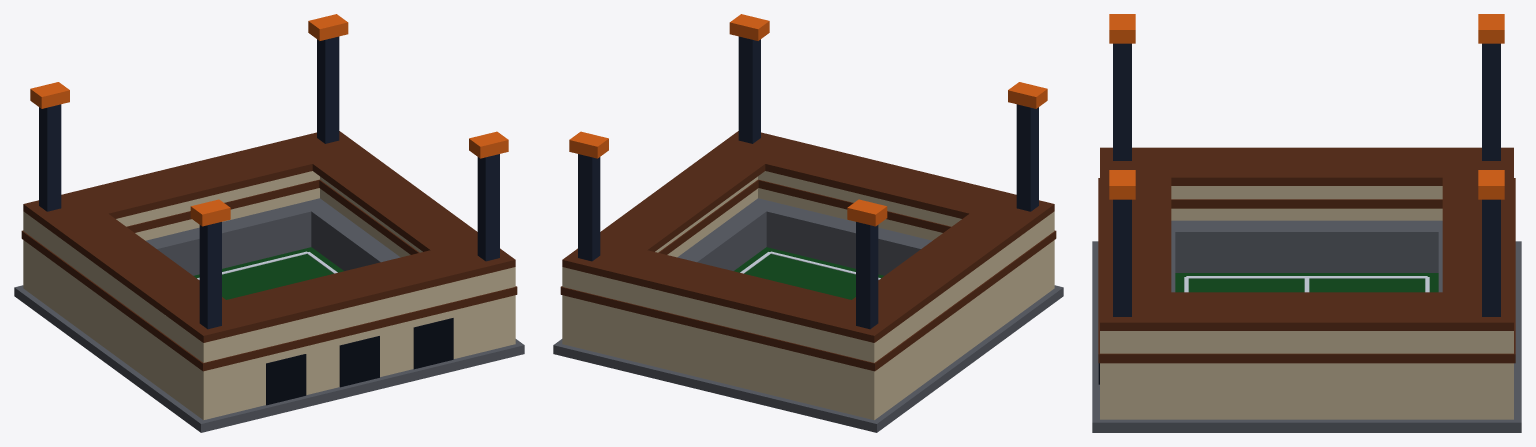
The model's file is stadium.obj.
3 renders of one model, left to right at view 1: azimuth 30°, elevation 25°; view 2: azimuth 150°, elevation 25°; view 3: azimuth 270°, elevation 25°, orthographic. The views are drawn at different scales.
Visible parts, largest first — view 1: canopies, stands-front, stands-west, masts, concourse, facade-band, tiers-back, gates, stands-back, floodlights, pitch, tiers-east (+1 smaller); view 2: canopies, stands-back, stands-west, masts, concourse, facade-band, tiers-front, stands-front, floodlights, pitch, tiers-east, stands-east; view 3: canopies, stands-east, tiers-west, masts, concourse, facade-band, stands-west, pitch, stands-back, stands-front, floodlights, pitch-markings.
Boxes of the visible parts, x1,y1,x2,y2 form: canopies: (23, 131, 515, 342); stands-front: (182, 267, 515, 420); stands-west: (44, 227, 182, 404); masts: (39, 36, 499, 329); concourse: (14, 285, 524, 432); facade-band: (21, 179, 517, 371); tiers-back: (145, 198, 330, 275); gates: (266, 318, 453, 405); stands-back: (23, 171, 319, 303); floodlights: (30, 14, 508, 226); pitch: (194, 247, 343, 299); tiers-east: (311, 206, 400, 270); canopies: (562, 131, 1054, 342); stands-back: (562, 267, 895, 420); stands-west: (895, 227, 1033, 404); masts: (578, 36, 1038, 329); concourse: (553, 285, 1063, 432); facade-band: (560, 179, 1056, 371); tiers-front: (747, 198, 932, 275); stands-front: (758, 171, 1054, 303); floodlights: (569, 14, 1047, 226); pitch: (734, 247, 883, 299); tiers-east: (677, 206, 766, 270); stands-east: (655, 176, 757, 257); canopies: (1100, 147, 1513, 330); stands-east: (1148, 331, 1465, 419); tiers-west: (1175, 220, 1438, 272); masts: (1113, 43, 1500, 316); concourse: (1092, 241, 1521, 432); facade-band: (1098, 178, 1515, 363); stands-west: (1171, 186, 1442, 220); pitch: (1175, 273, 1438, 292); stands-back: (1465, 331, 1513, 419); stands-front: (1100, 331, 1148, 419); floodlights: (1109, 14, 1504, 199); pitch-markings: (1184, 276, 1429, 292).
Size of the model in its own units: 11.4 by 7.1 by 11.4.
